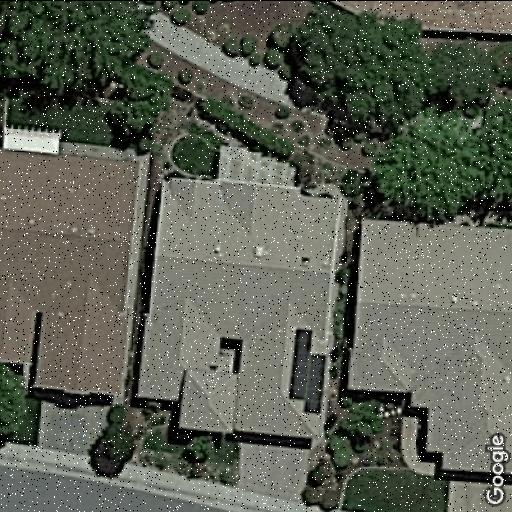solar-panel: (286, 326, 326, 416)
